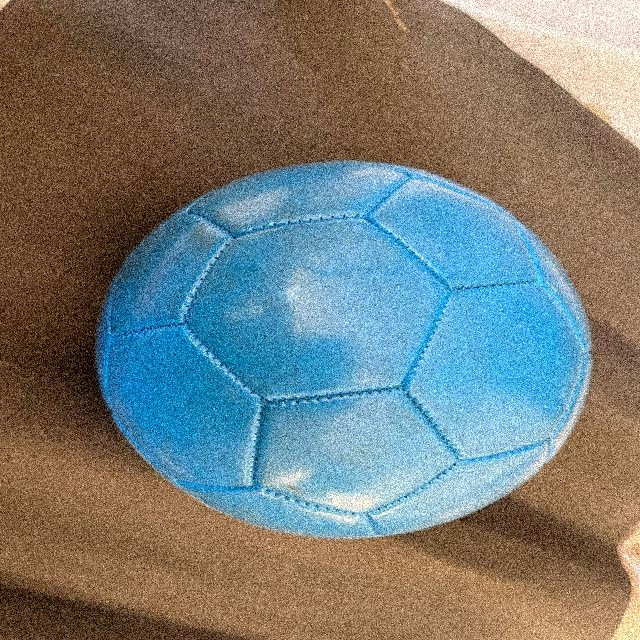blue_ball: (93, 162, 590, 540)
